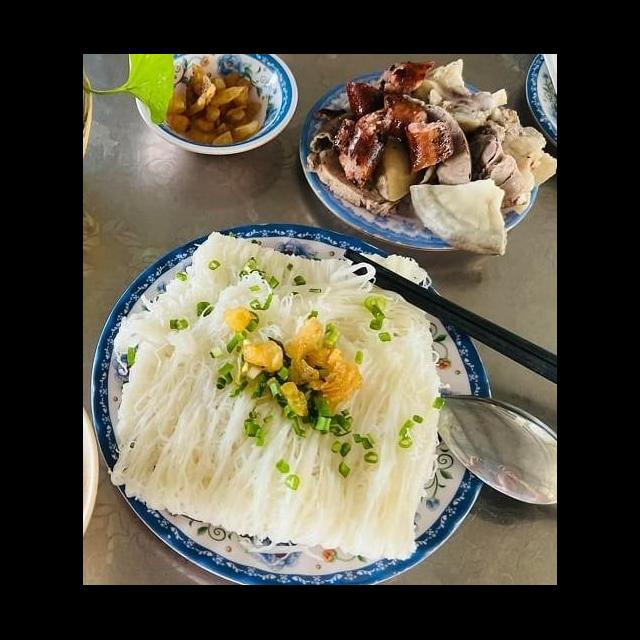banh hoi: (107, 266, 446, 564), (108, 228, 436, 386)
banh hoi heo quay: (98, 110, 551, 582)
thit heo quay: (297, 147, 403, 220), (469, 133, 530, 220)
